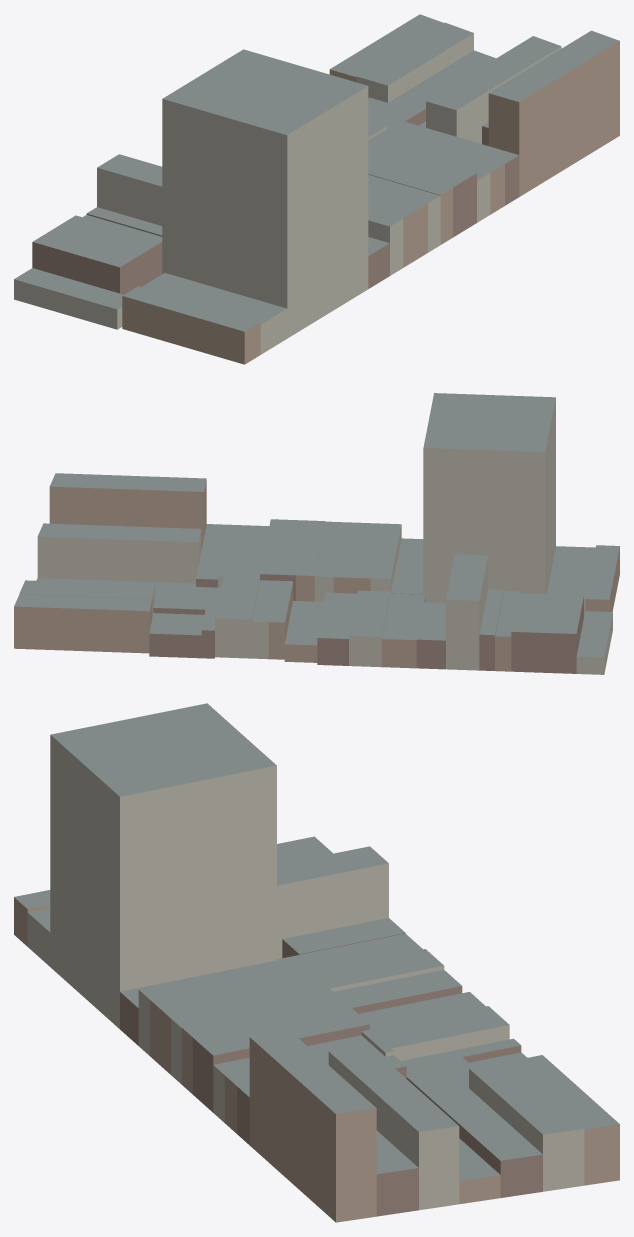
3 renders of one model, top to bottom at view 1: azimuth 30°, elevation 25°; view 2: azimuth 150°, elevation 25°; view 3: azimuth 270°, elevation 25°, orthographic. The views are drawn at different scales.
Visible parts, largest first — view 1: F3; view 2: F3; view 3: F3.
Boxes of the visible parts, left/top/right/bottom form: F3: left=14, top=14, right=619, bottom=364; F3: left=14, top=393, right=619, bottom=674; F3: left=14, top=703, right=619, bottom=1222.
Bounding box in the file's own units: 144 × 45.11 × 106.
